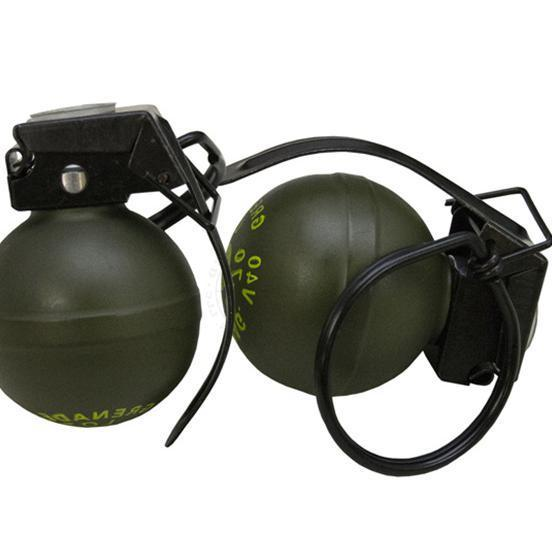Grenade: (220, 134, 551, 479), (1, 100, 233, 449)
